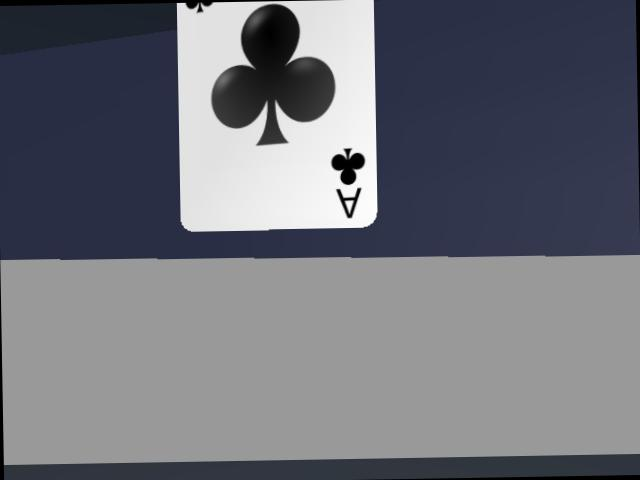club: (178, 0, 377, 231)
